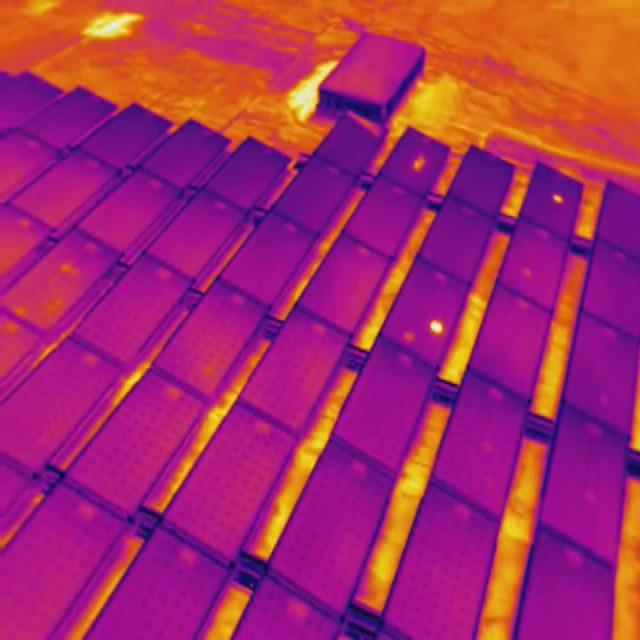Orange-Spots: (59, 259, 76, 275), (429, 319, 444, 334), (413, 154, 424, 172), (402, 330, 414, 342), (552, 194, 564, 204), (523, 268, 530, 276)
